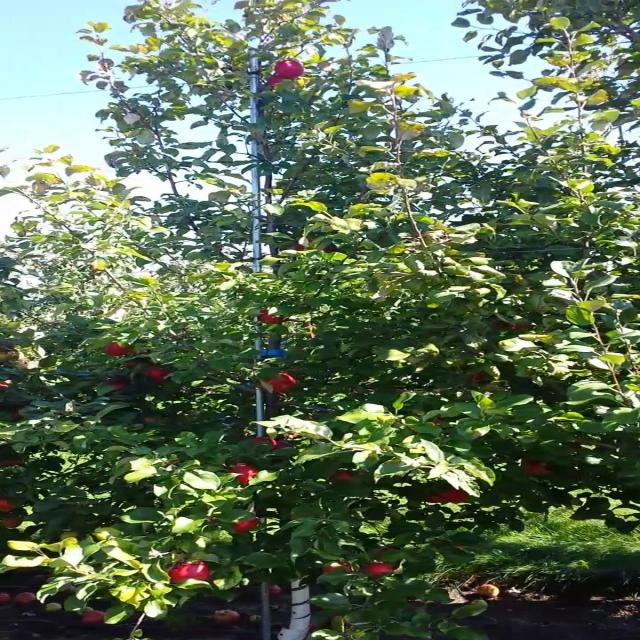apple: (170, 564, 213, 583), (262, 372, 299, 393), (227, 464, 260, 485), (362, 564, 398, 580), (298, 240, 338, 253), (276, 60, 306, 76), (440, 488, 469, 504), (497, 320, 532, 331), (234, 520, 261, 533), (525, 464, 553, 476), (255, 436, 277, 451), (106, 344, 133, 356), (269, 76, 297, 87), (326, 564, 356, 574), (148, 368, 171, 381), (262, 312, 284, 324), (106, 380, 128, 391), (333, 472, 357, 482), (298, 240, 318, 251), (376, 548, 396, 558), (6, 516, 21, 528), (426, 496, 446, 504), (6, 460, 25, 468), (6, 500, 18, 512), (13, 412, 27, 422), (476, 372, 487, 382), (433, 420, 448, 425)
